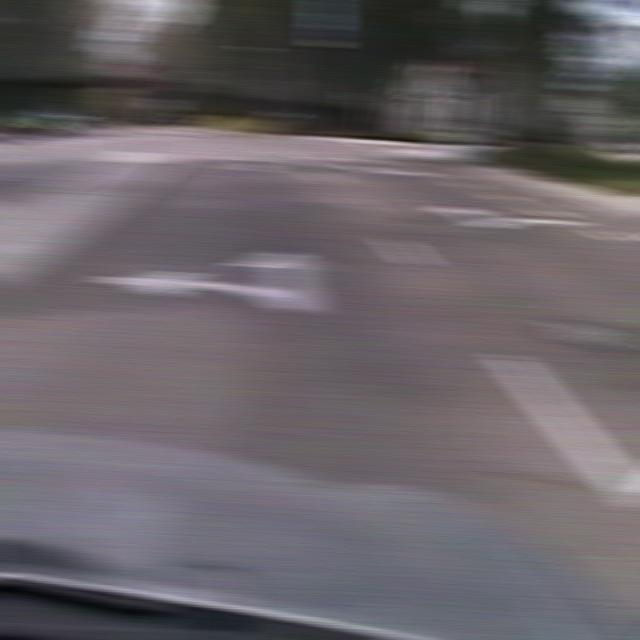stop_sign: (118, 59, 156, 88), (442, 51, 480, 80)
